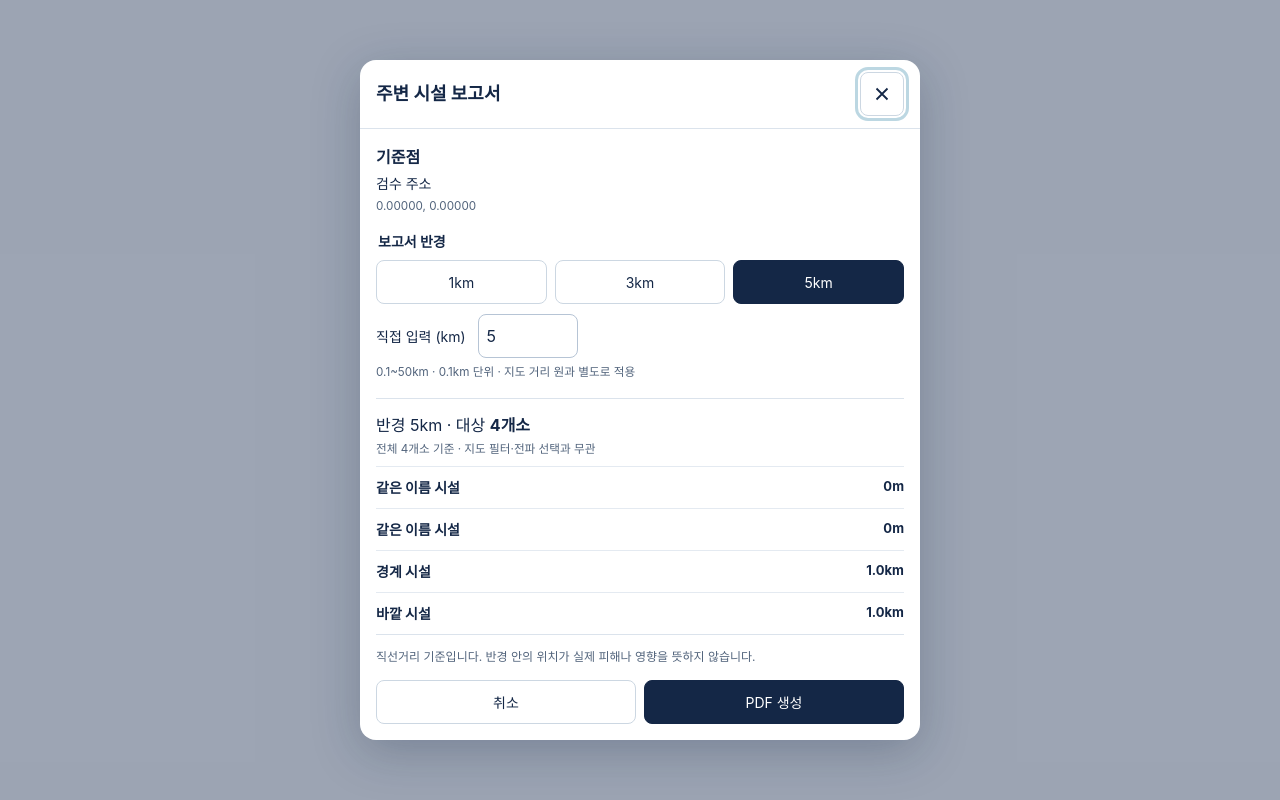
독립적인 주변 시설 보고서 › 실패를 0개로 표현하지 않고 재시도할 수 있다
What coordinates should you click on to do the following:
click the button "PDF 생성"
I would click on:
 (774, 702)
Its box is [644, 680, 904, 724].
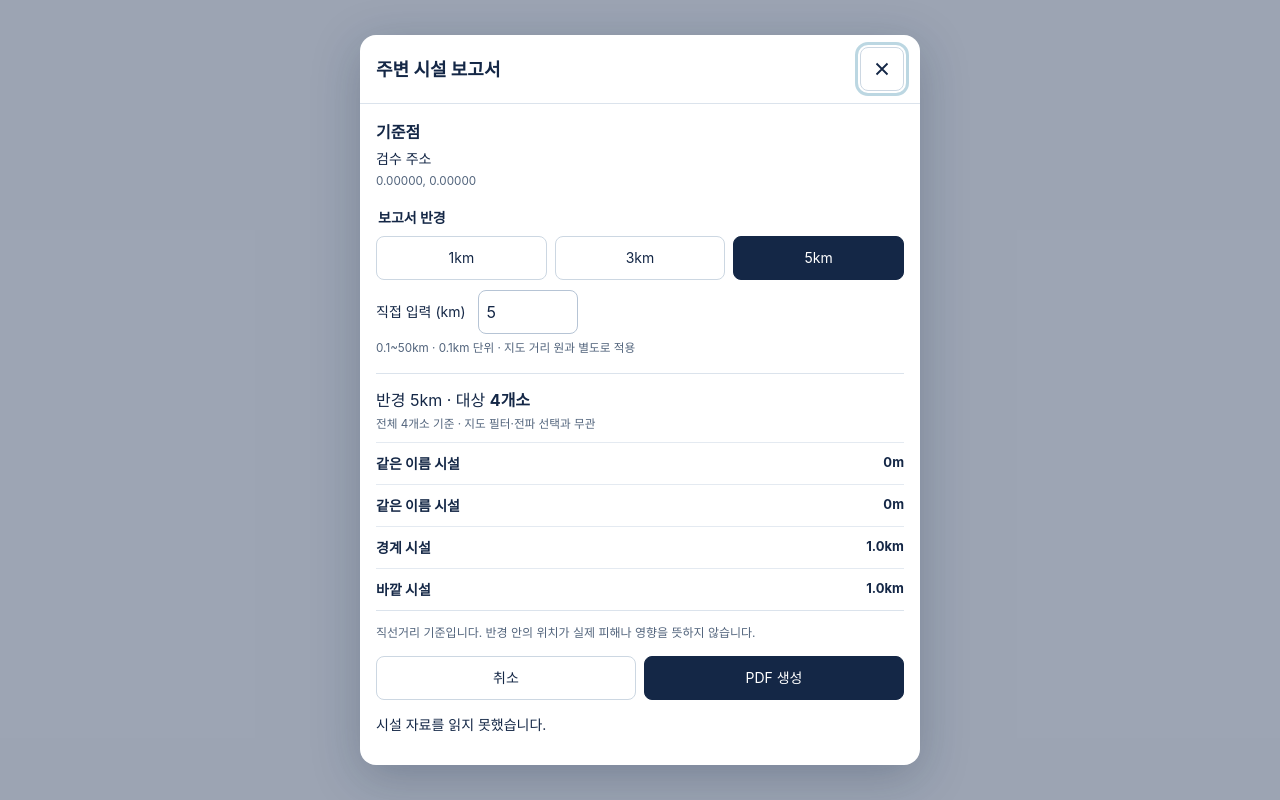
Expected: the text "대상 4개소" is shown, [376, 373, 904, 412]
Expected: the text "시설 자료를 읽지 못했습니다." is shown, [376, 716, 546, 733]
